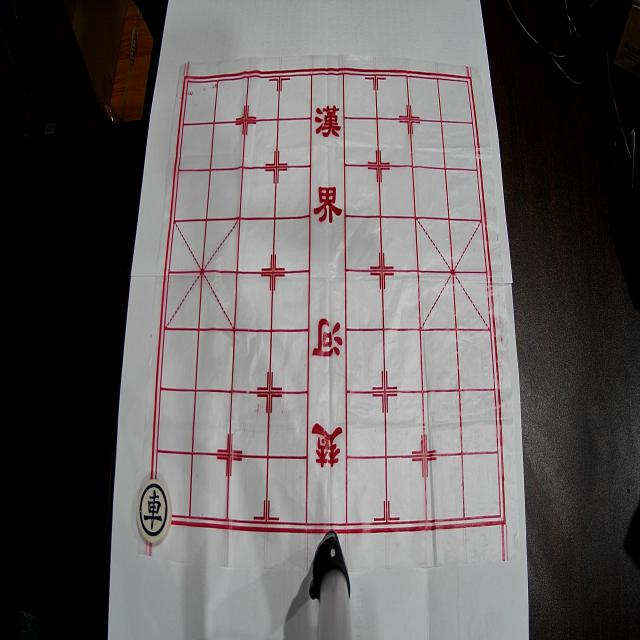black-chariot: (137, 479, 172, 544)
